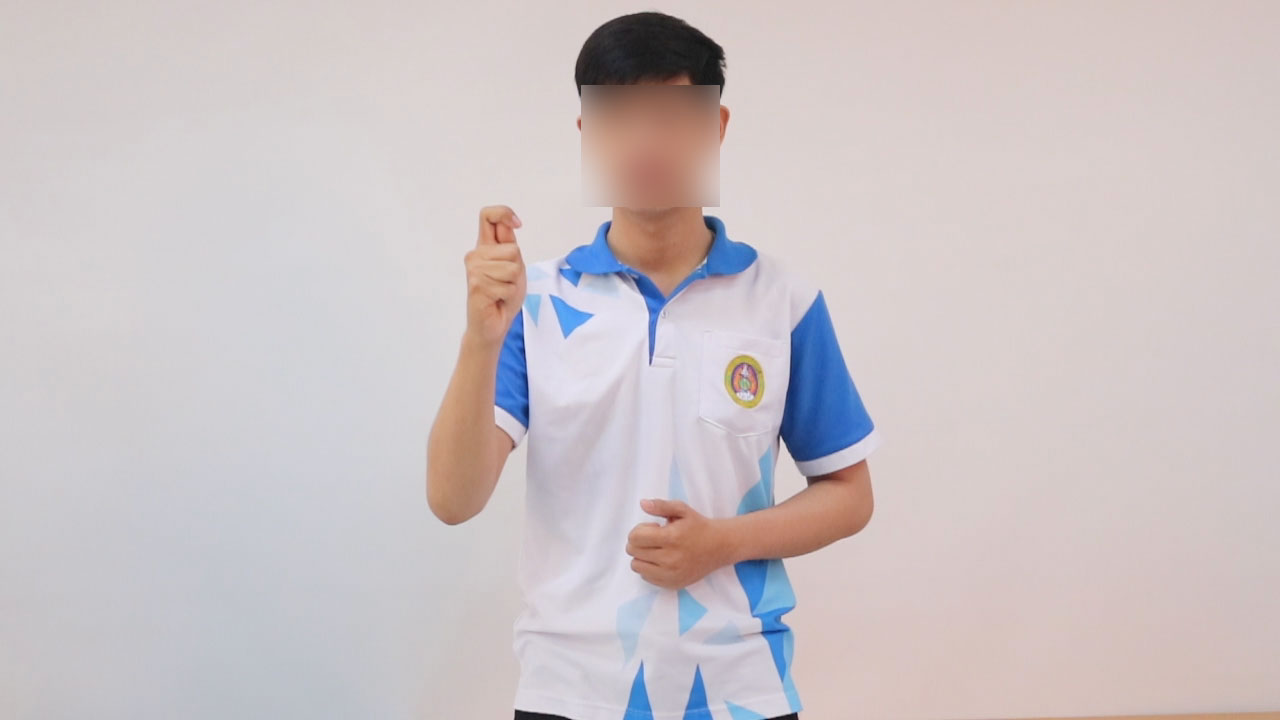or: (458, 197, 533, 344)
